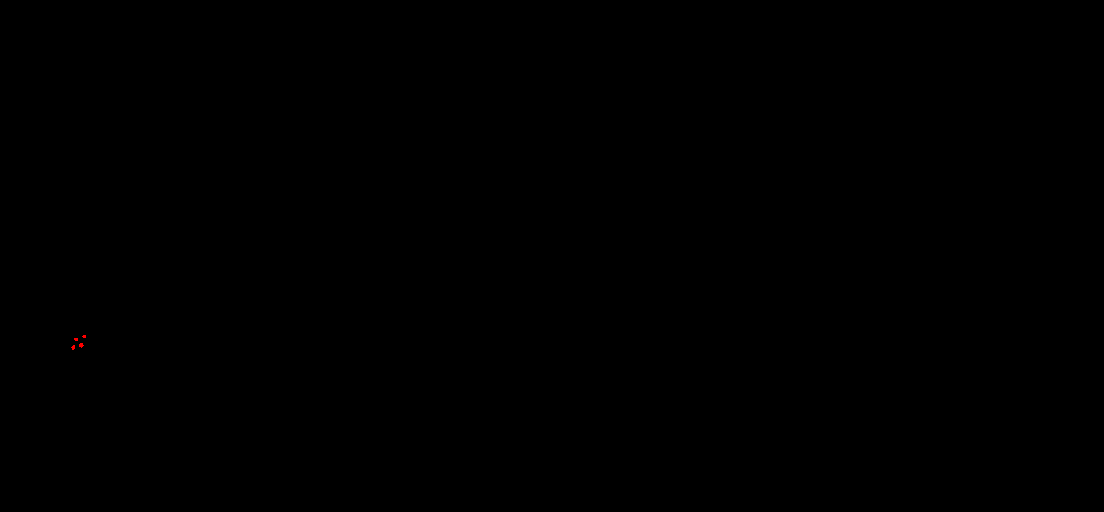Target: (79, 343, 84, 348), (71, 345, 75, 350), (82, 335, 86, 338), (74, 338, 78, 341)
